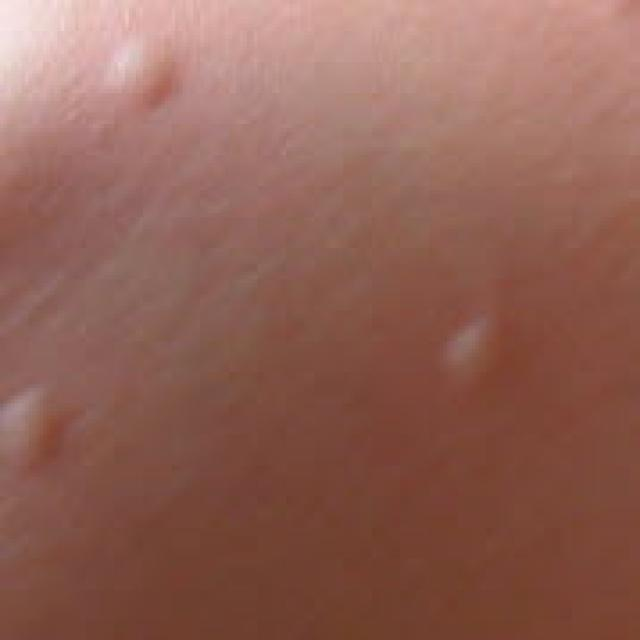sinek: (1, 354, 121, 517), (397, 290, 545, 422), (90, 33, 206, 149)
